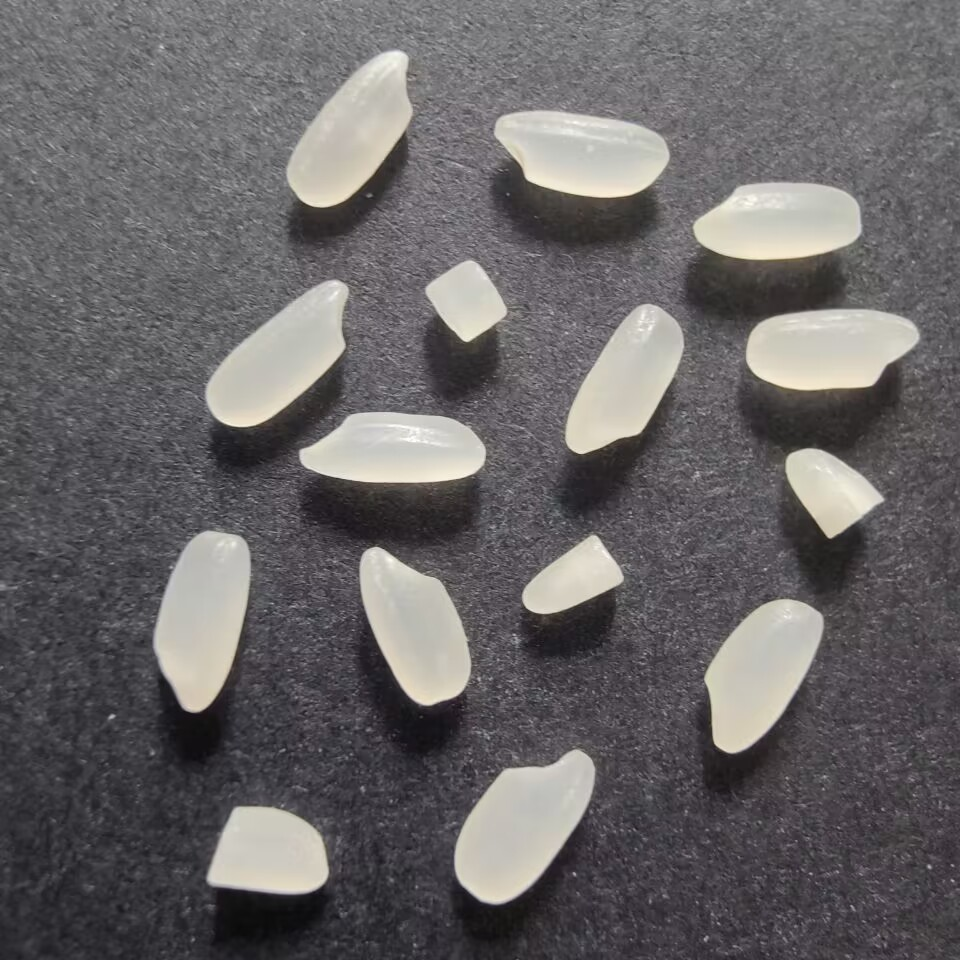broken: (201, 797, 333, 904), (780, 443, 890, 546), (513, 531, 634, 622), (417, 253, 514, 350)
rice: (445, 740, 601, 908), (202, 274, 355, 435), (280, 45, 425, 208), (698, 589, 829, 757), (148, 521, 256, 720), (352, 542, 479, 709), (559, 299, 687, 459), (488, 107, 676, 202), (733, 304, 926, 395), (680, 173, 871, 264), (291, 410, 496, 490)
